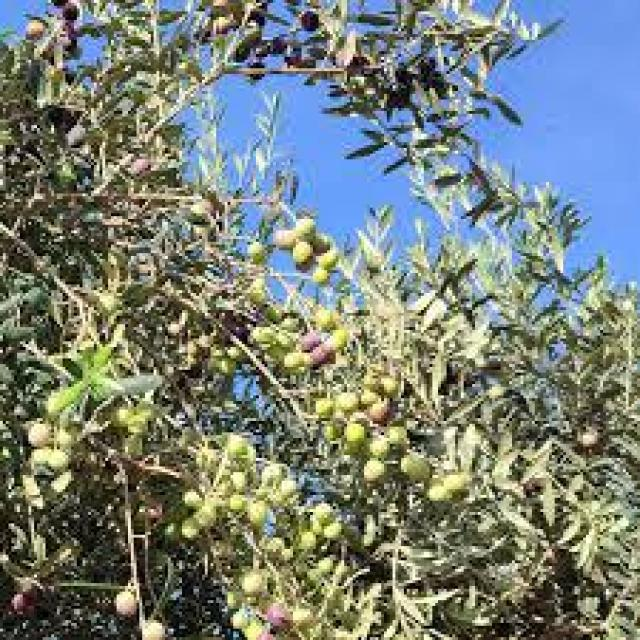Healthy: (117, 589, 137, 614), (364, 458, 384, 481), (293, 242, 310, 265)
